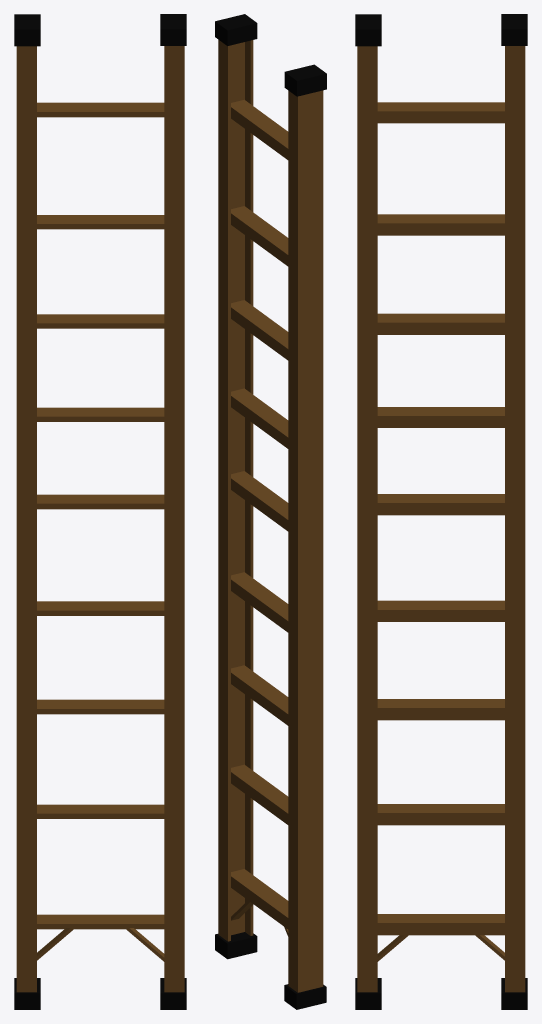
Rendered from FBX_Ladder 1.fbx.
The picture shows the model from 3 angles, left to right: view 1: azimuth 90°, elevation 25°; view 2: azimuth 210°, elevation 25°; view 3: azimuth 270°, elevation 25°; orthographic projection. The views are drawn at different scales.
Visible parts, largest first — view 1: polySurface7; view 2: polySurface7; view 3: polySurface7.
Boxes of the visible parts, left/top/right/bottom form: polySurface7: left=14, top=14, right=186, bottom=1009; polySurface7: left=215, top=14, right=326, bottom=1009; polySurface7: left=355, top=14, right=527, bottom=1009.
Bounding box in the file's own units: 0.15 × 4.39 × 0.7003.
